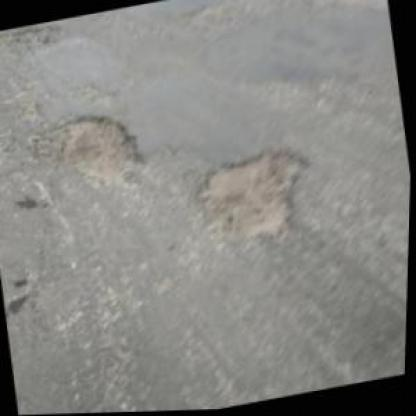pothole: (184, 136, 328, 256), (36, 103, 154, 208)
